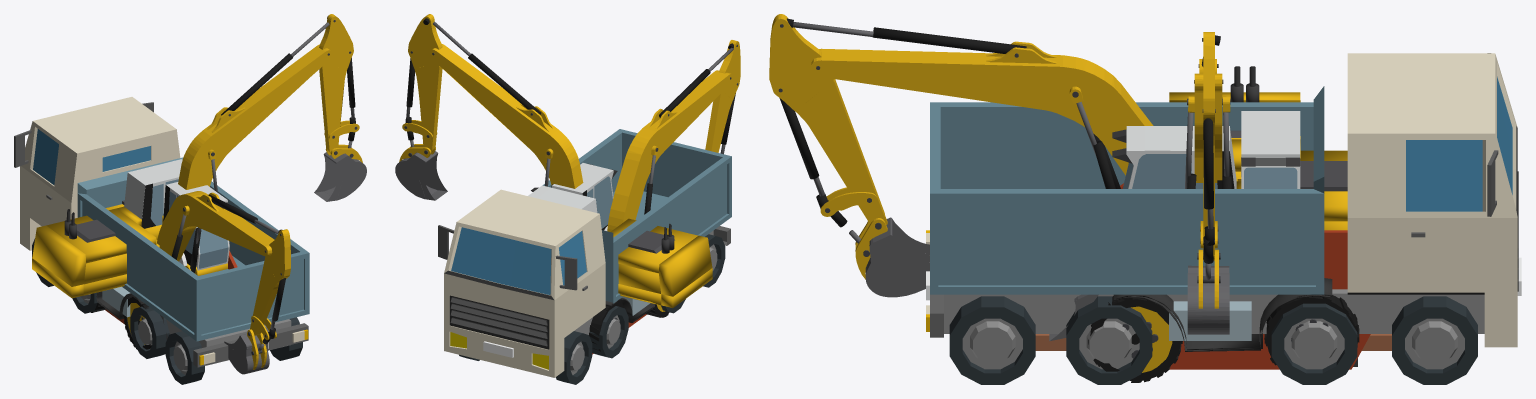
Rendered from obra.glb.
3 renders of one model, left to right at view 1: azimuth 30°, elevation 25°; view 2: azimuth 150°, elevation 25°; view 3: azimuth 270°, elevation 25°, orthographic. The views are drawn at different scales.
Visible parts, largest first — view 1: camion, excavadora_b, excavadora_a; view 2: camion, excavadora_b, excavadora_a; view 3: camion, excavadora_a, excavadora_b, contenedor_b, tablones.
Part boxes in pixels (x1,y1,x2,y2): camion: (14, 97, 309, 384); excavadora_b: (32, 14, 366, 349); excavadora_a: (92, 182, 290, 374); camion: (438, 129, 731, 384); excavadora_b: (395, 14, 712, 352); excavadora_a: (551, 40, 740, 344); camion: (926, 53, 1521, 384); excavadora_a: (769, 14, 1358, 382); excavadora_b: (1051, 32, 1359, 382); contenedor_b: (1120, 183, 1370, 369); tablones: (1035, 334, 1391, 366).
Bounding box in the file's own units: 6.76 × 5.7 × 8.85.
15 materials, 3 textured.
